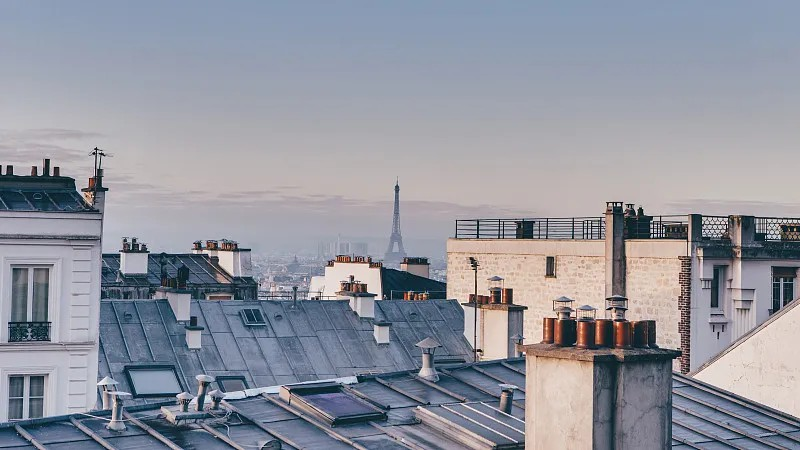Eiffel: (383, 175, 408, 265)
